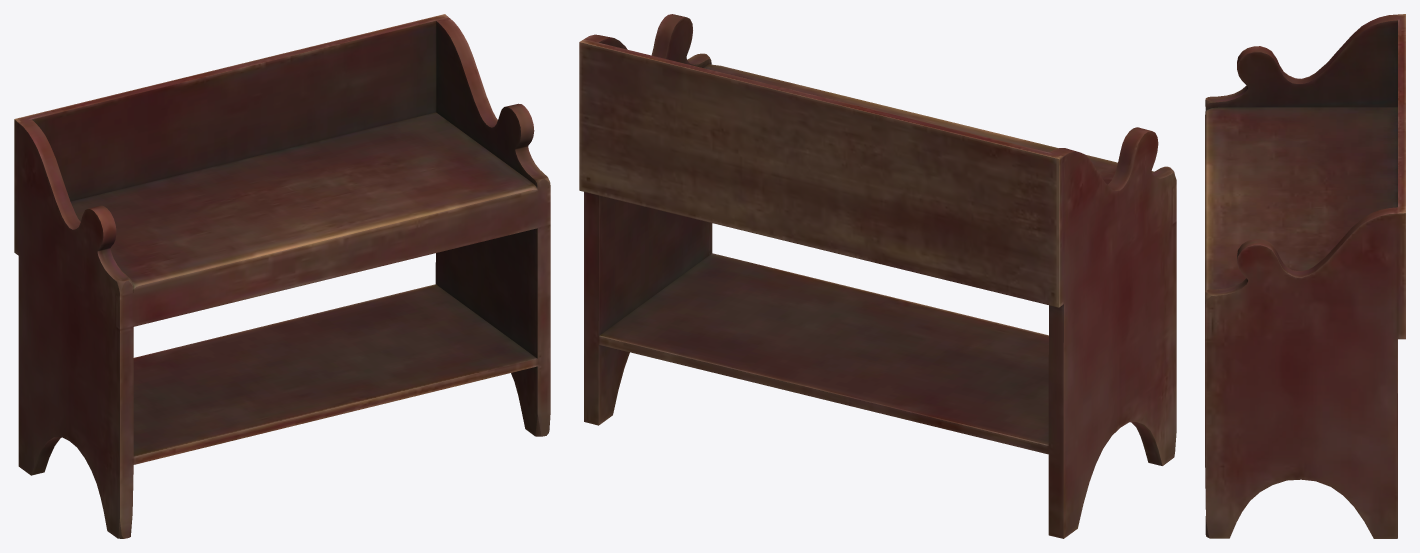
File: painted_wooden_bench.glb
3 renders of one model, left to right at view 1: azimuth 30°, elevation 25°; view 2: azimuth 150°, elevation 25°; view 3: azimuth 270°, elevation 25°, orthographic. The views are drawn at different scales.
Visible parts, largest first — view 1: painted_wooden_bench; view 2: painted_wooden_bench; view 3: painted_wooden_bench.
Boxes of the visible parts, bbox=[...] form: painted_wooden_bench: bbox=[14, 14, 550, 538]; painted_wooden_bench: bbox=[579, 14, 1176, 538]; painted_wooden_bench: bbox=[1205, 14, 1405, 538].
Size of the model in its own units: 1.16 by 0.8893 by 0.4965.
1 material, 1 textured.
